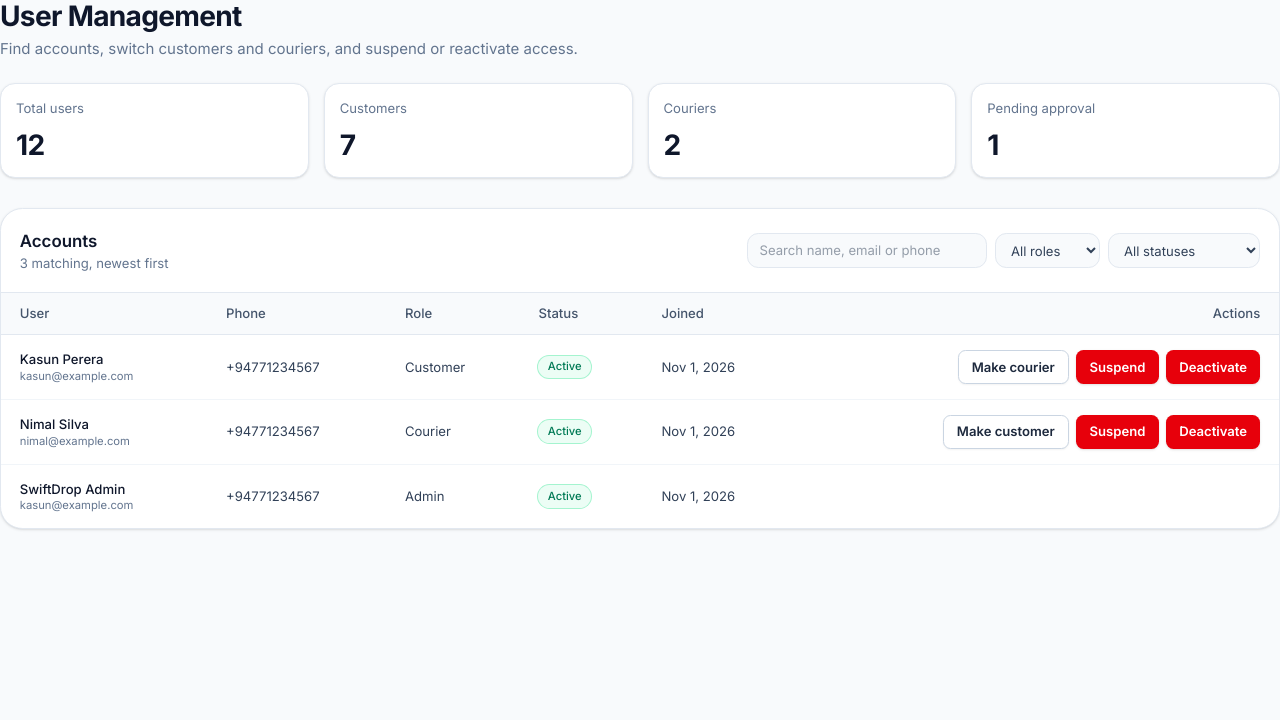
Scenario: a refused change shows the server message
Expected: the text "Kasun Perera" is shown, [20, 351, 104, 367]
Click the button "Deactivate" in the row of "Kasun Perera" at (1213, 367), box [1166, 350, 1260, 384]
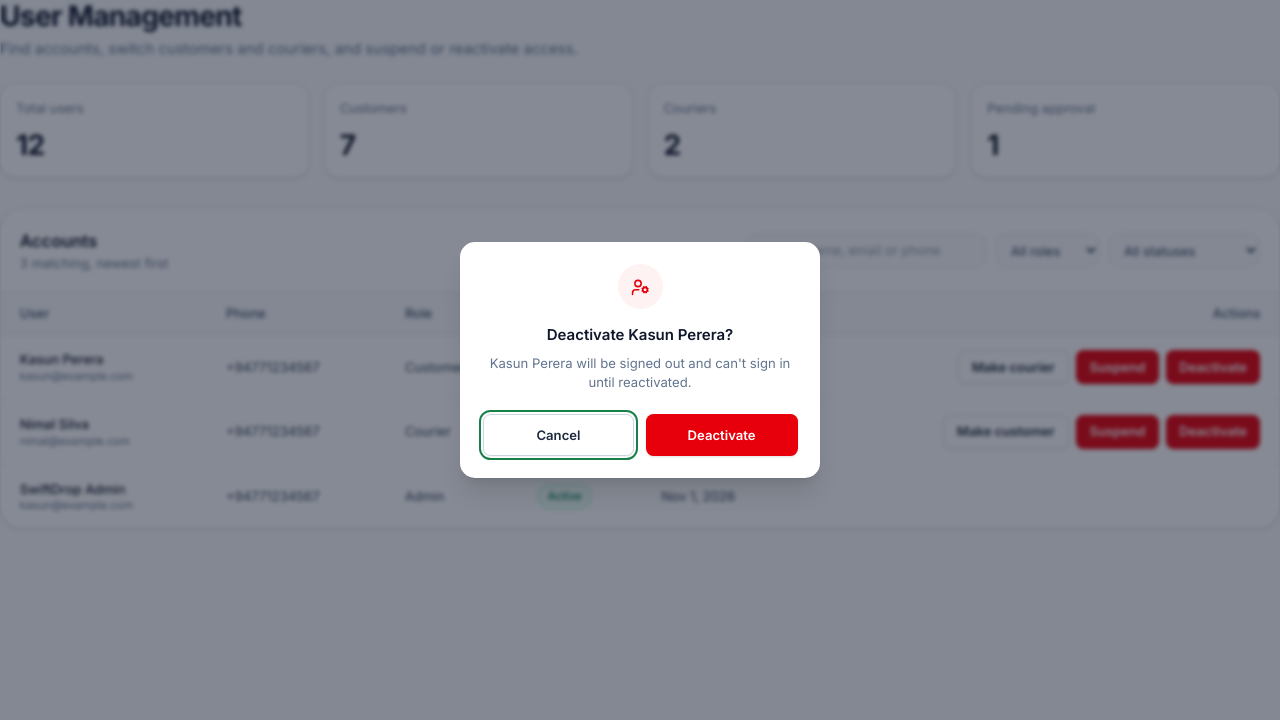
Click the button "Deactivate" at (722, 435), box [646, 414, 798, 456]
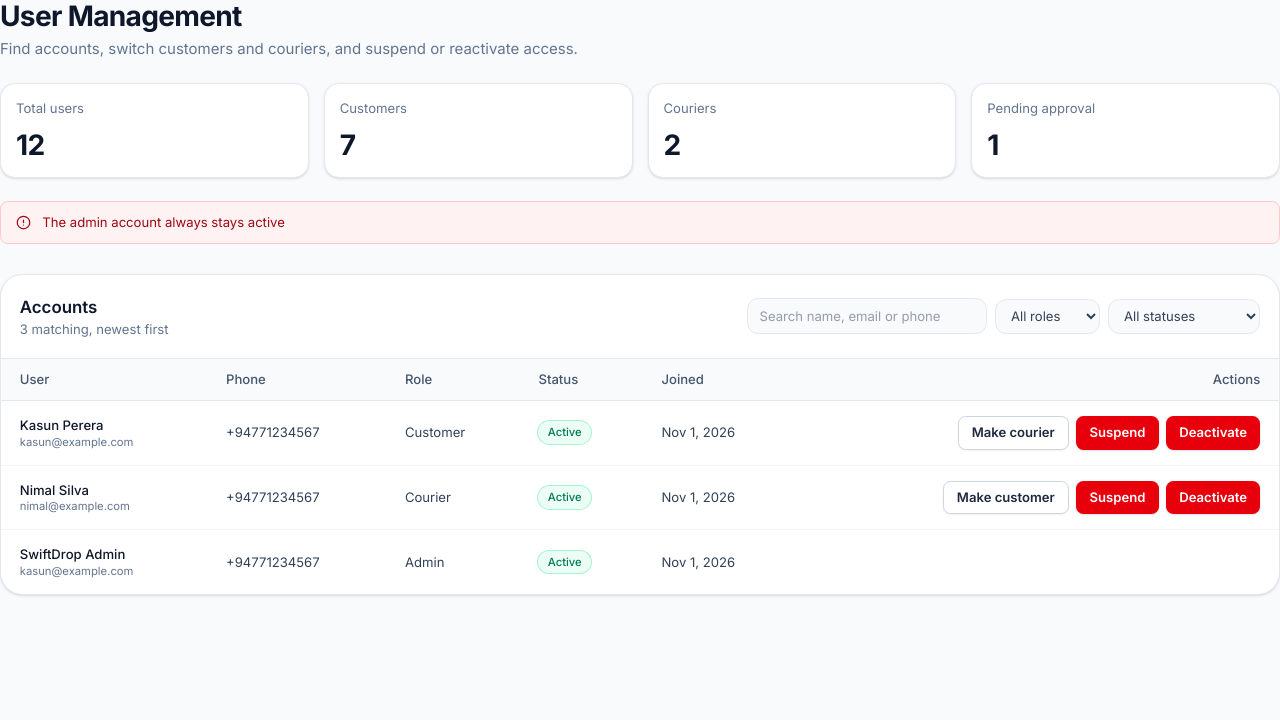
Now the text "The admin account always stays active" is shown, box [42, 213, 285, 232]
